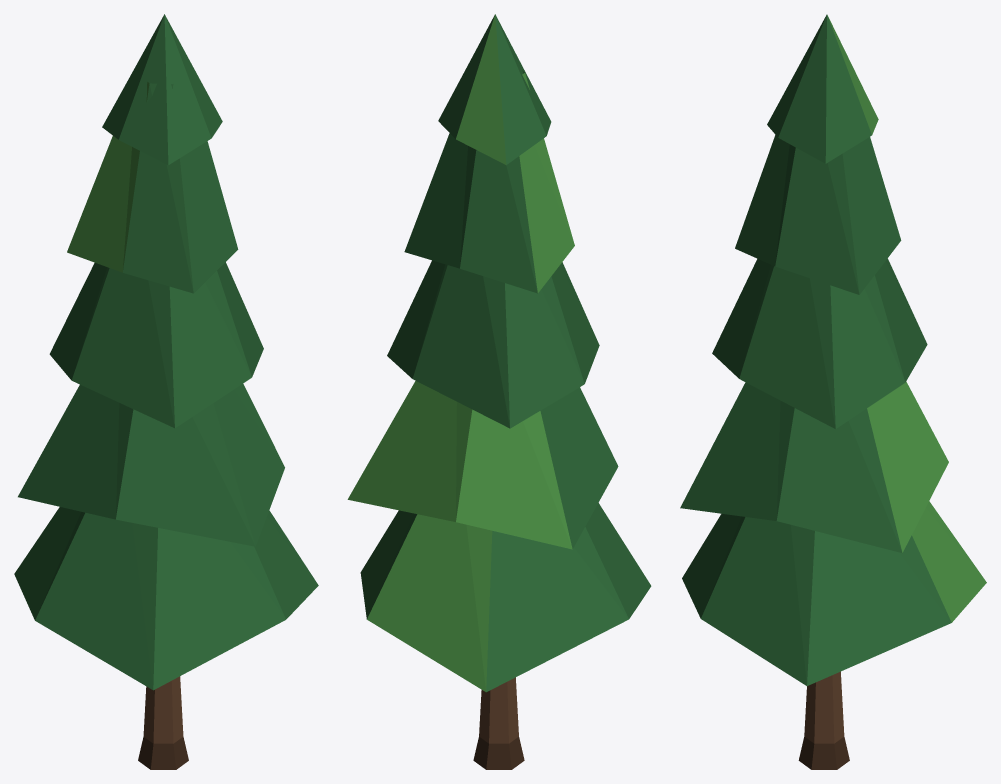
File: tree_pine_a.glb
3 renders of one model, left to right at view 1: azimuth 30°, elevation 25°; view 2: azimuth 150°, elevation 25°; view 3: azimuth 270°, elevation 25°, orthographic.
Parts seen in each view (by area): view 1: tree_pine_a__mesh; view 2: tree_pine_a__mesh; view 3: tree_pine_a__mesh.
Part boxes in pixels (<box>): tree_pine_a__mesh: <box>14,14,318,769</box>; tree_pine_a__mesh: <box>347,14,651,769</box>; tree_pine_a__mesh: <box>680,14,986,769</box>.
Bounding box in the file's own units: 4.79 × 12.35 × 4.59.
Materials: 2 (2 with a texture image).
